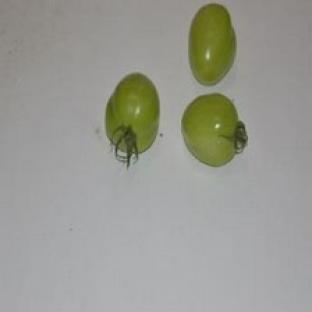Tomato: (105, 73, 160, 165), (182, 94, 247, 167), (189, 3, 236, 84)
